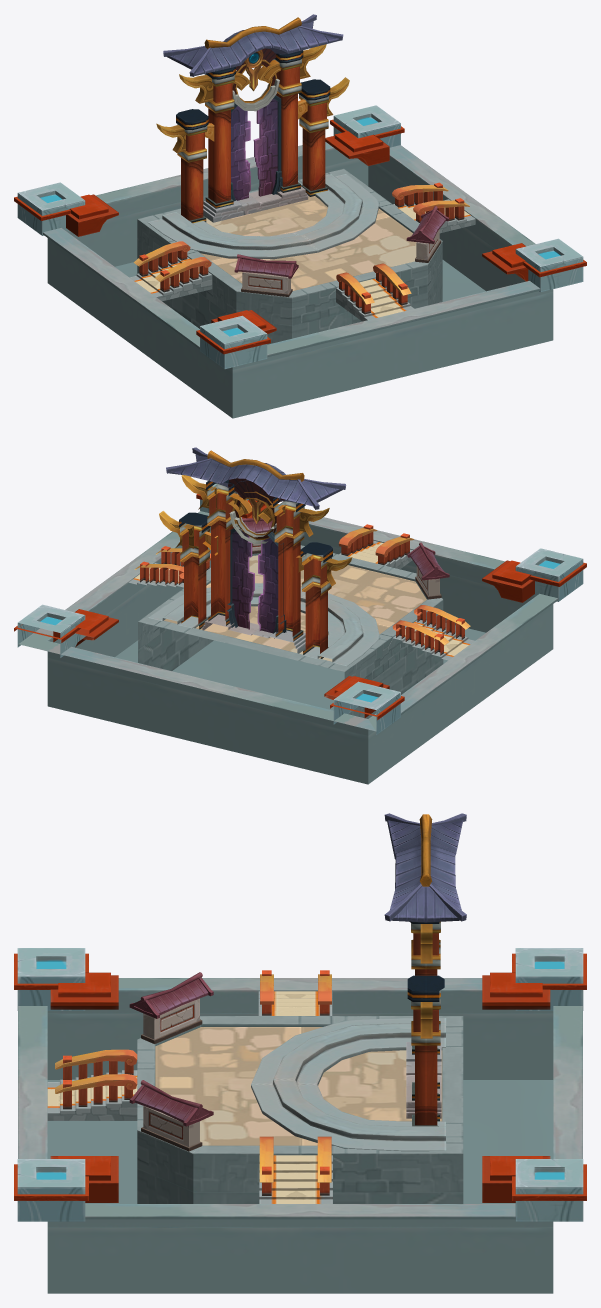
File: Stage_ZhuCheng_FuBen_01.FBX
3 renders of one model, top to bottom at view 1: azimuth 30°, elevation 25°; view 2: azimuth 150°, elevation 25°; view 3: azimuth 270°, elevation 25°, orthographic. The views are drawn at different scales.
Parts seen in each view (by area): view 1: Stage_ZhuCheng_FuBen_01; view 2: Stage_ZhuCheng_FuBen_01; view 3: Stage_ZhuCheng_FuBen_01.
Part boxes in pixels (bbox=[...]): Stage_ZhuCheng_FuBen_01: bbox=[14, 14, 586, 418]; Stage_ZhuCheng_FuBen_01: bbox=[14, 447, 586, 784]; Stage_ZhuCheng_FuBen_01: bbox=[14, 813, 586, 1293].
Size of the model in its own units: 1267 by 838 by 1266.
